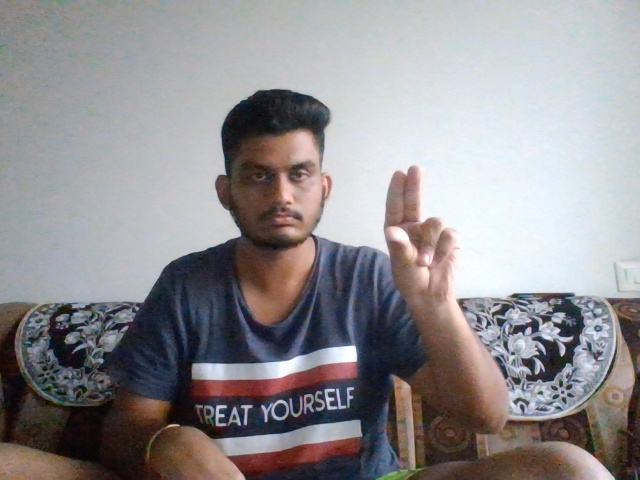No: (372, 160, 474, 300)
